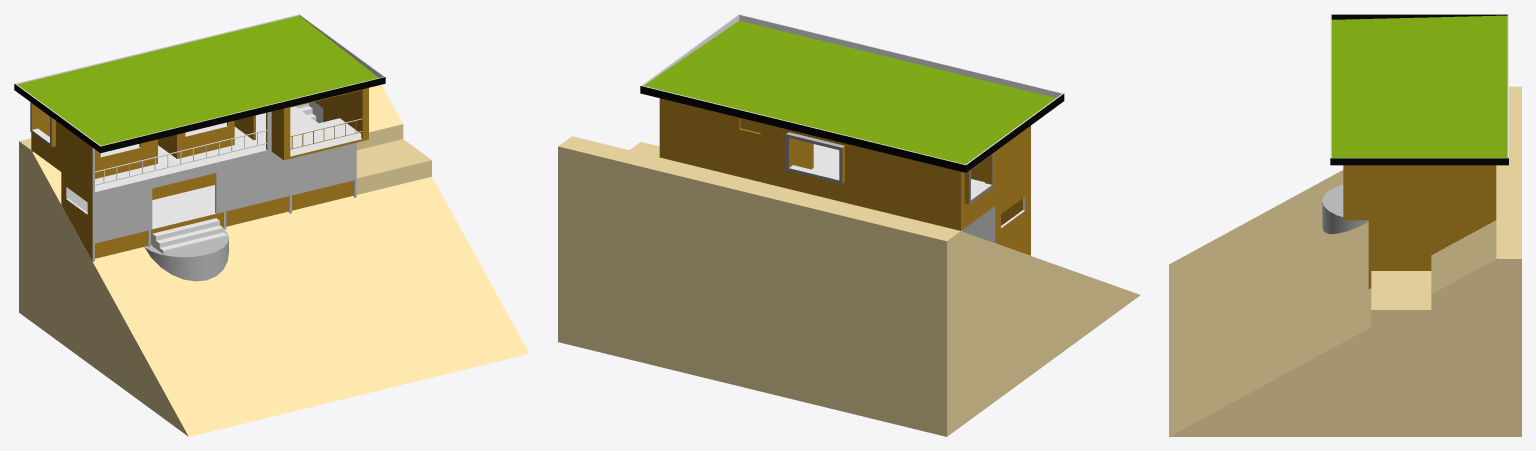
File: architecture-sketch.glb
3 renders of one model, left to right at view 1: azimuth 30°, elevation 25°; view 2: azimuth 150°, elevation 25°; view 3: azimuth 270°, elevation 25°, orthographic. The views are drawn at different scales.
Visible parts, largest first — view 1: Solid1, Solid1_271, Solid1_128, Solid1_76, Solid1_55, Solid1_73, Solid1_263, Solid1_80, Solid1_210, Solid1_131, Solid1_237, Solid1_79 (+9 smaller); view 2: Solid1, Solid1_271, Solid1_25, Solid1_73, Solid1_265, Solid1_266, Solid1_131, Solid1_261, Solid1_76, Solid1_262, Solid1_32, Solid1_228 (+1 smaller); view 3: Solid1, Solid1_271, Solid1_108, Solid1_264, Solid1_261, Solid1_268, Solid1_210, Solid1_209.
Boxes of the visible parts, x1,y1,x2,y2 form: Solid1: (19,84,529,436); Solid1_271: (17,16,378,145); Solid1_128: (92,111,356,261); Solid1_76: (95,106,361,192); Solid1_55: (95,120,234,178); Solid1_73: (31,121,92,194); Solid1_263: (100,77,385,152); Solid1_80: (152,185,214,227); Solid1_210: (144,239,228,281); Solid1_131: (61,172,92,260); Solid1_237: (284,88,368,160); Solid1_79: (314,90,361,133); Solid1: (558,136,1140,436); Solid1_271: (644,20,1055,164); Solid1_25: (659,98,960,230); Solid1_73: (961,125,1030,230); Solid1_265: (640,86,965,172); Solid1_266: (739,15,1061,97); Solid1_131: (995,180,1030,255); Solid1_261: (641,14,1063,165); Solid1_76: (811,144,984,192); Solid1_262: (966,94,1064,172); Solid1_32: (730,174,995,242); Solid1_228: (786,134,842,183); Solid1: (1169,86,1521,436); Solid1_271: (1331,15,1507,157); Solid1_108: (1343,165,1496,289); Solid1_264: (1330,158,1508,165); Solid1_261: (1330,14,1508,158); Solid1_268: (1331,14,1507,19); Solid1_210: (1322,202,1368,233); Solid1_209: (1322,185,1343,216).
Size of the model in its own units: 165 by 106 by 138.
